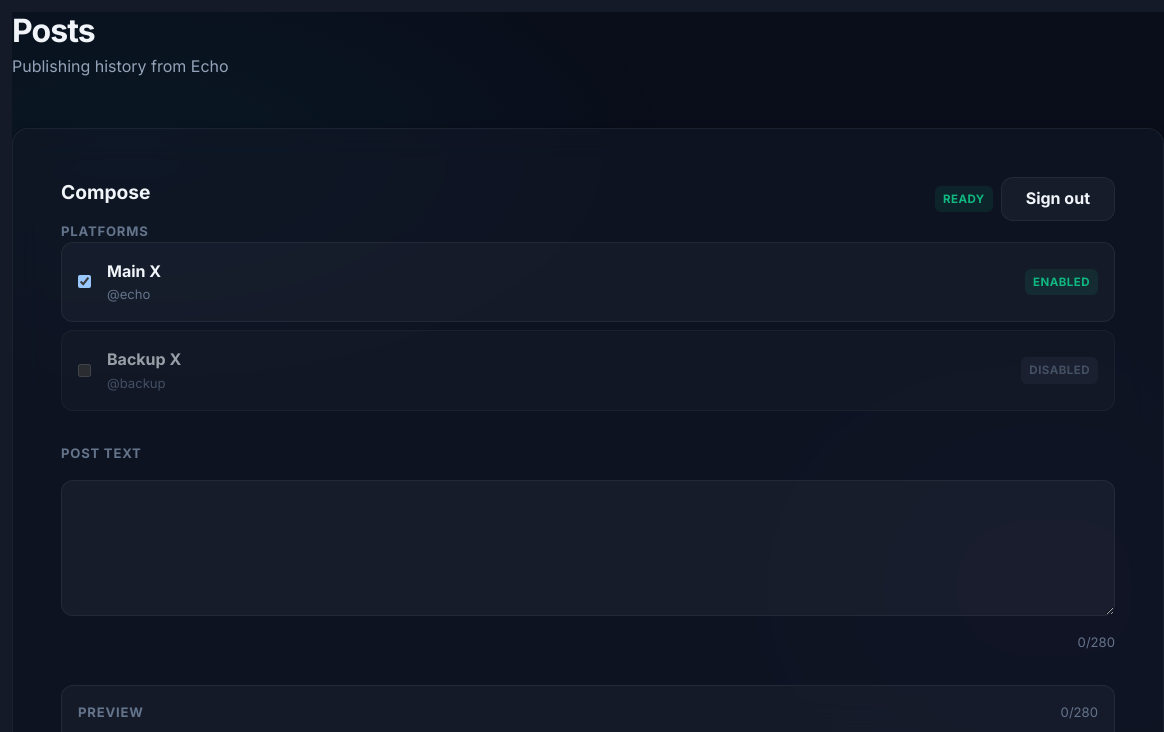
Test case: PostsPage › renders a live preview for selected enabled platforms
Step 1. Type "Preview copy" into the text box labelled "Post text" → (588, 548), box [61,480,1115,616]
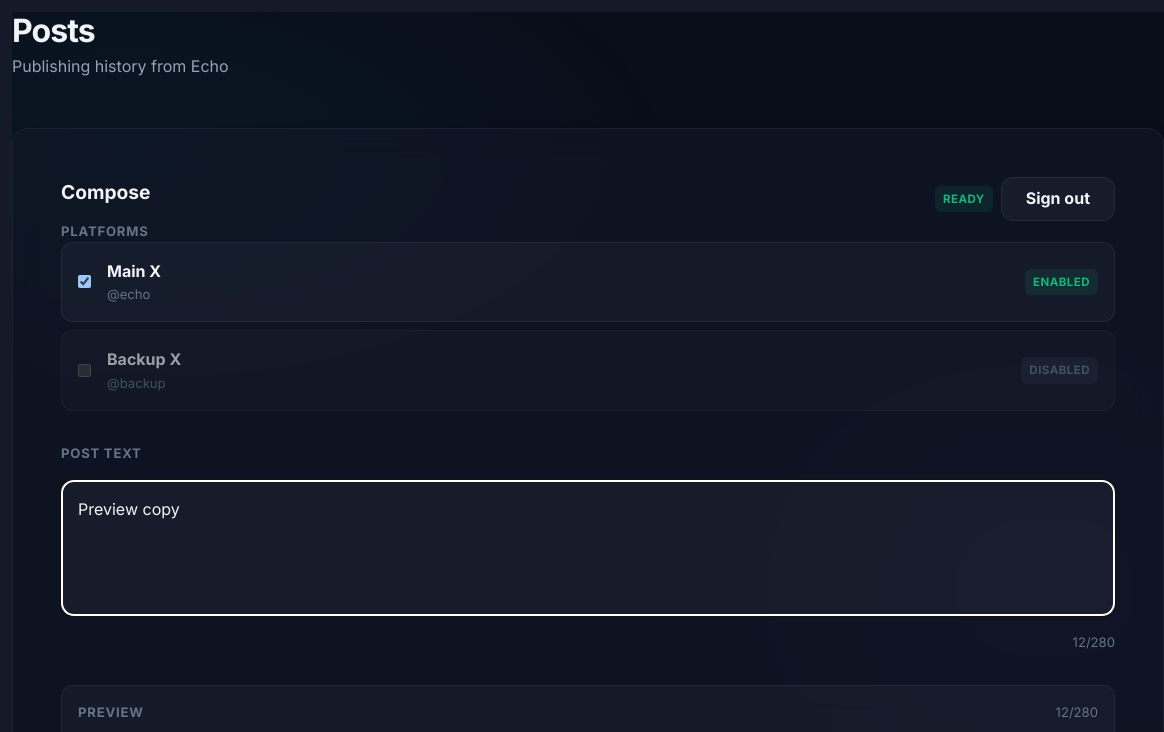
Expected: the 2nd text "12/280" is shown, [1056,702,1098,723]
